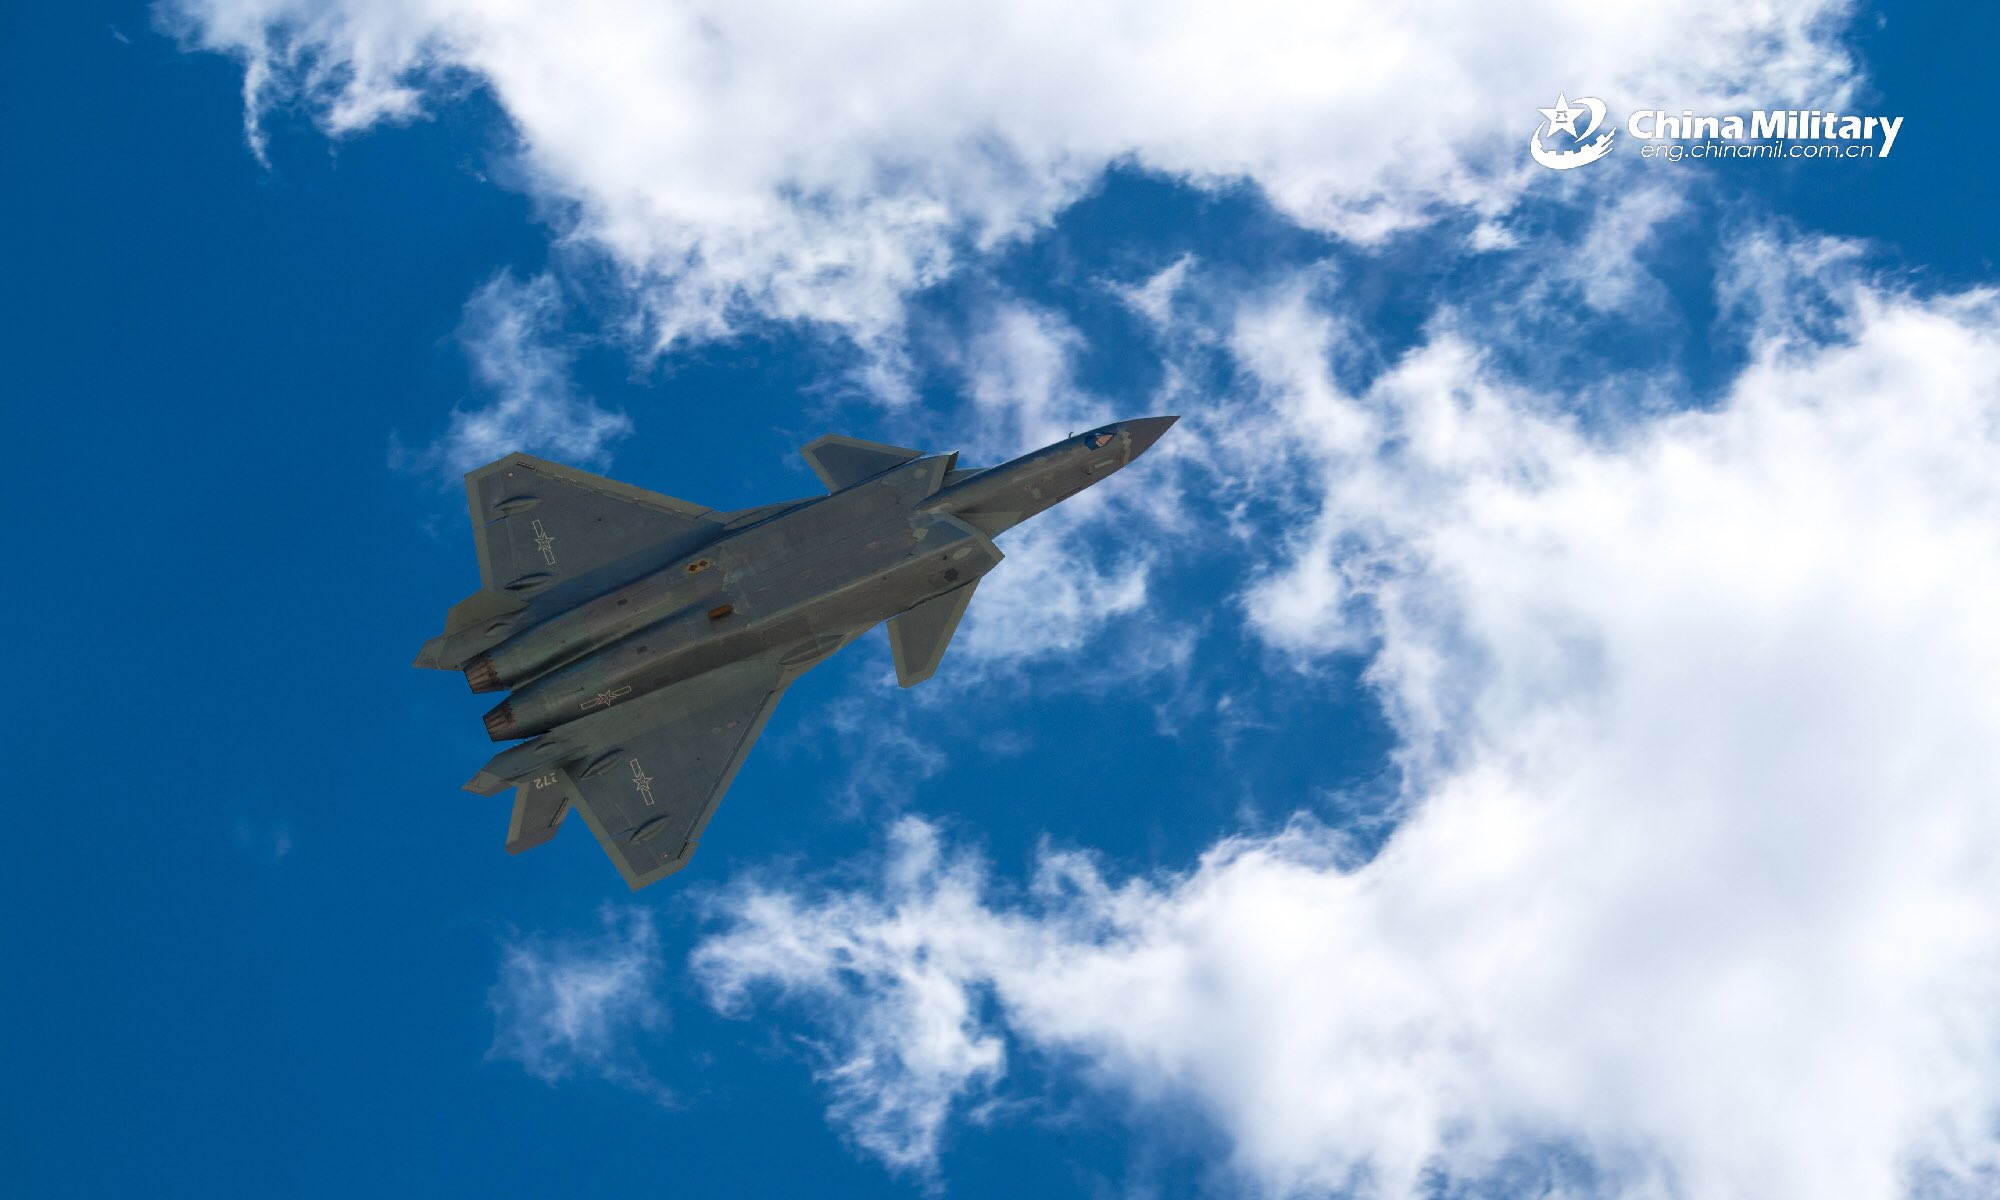J20: (411, 414, 1181, 891)
